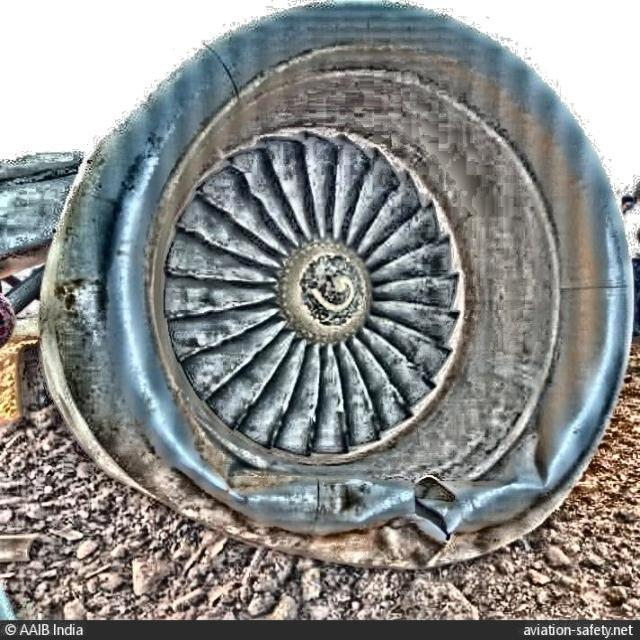crack: (410, 482, 455, 545)
dent: (231, 474, 414, 528), (508, 432, 556, 492)
